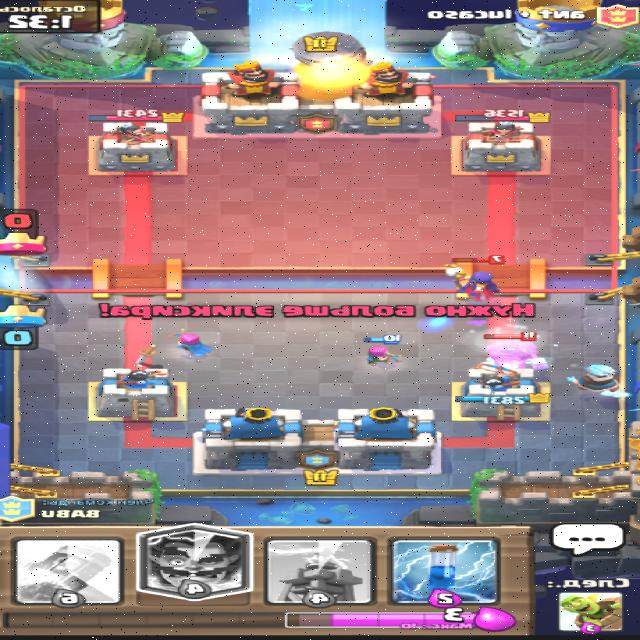Enemy-HogRider: (484, 330, 554, 371)
Enemy-Rocket: (292, 31, 374, 92)
Enemy-Witch: (442, 254, 510, 301)
Player-Archer: (167, 327, 217, 358), (366, 333, 406, 367)
Player-IceWizard: (566, 362, 622, 392)
